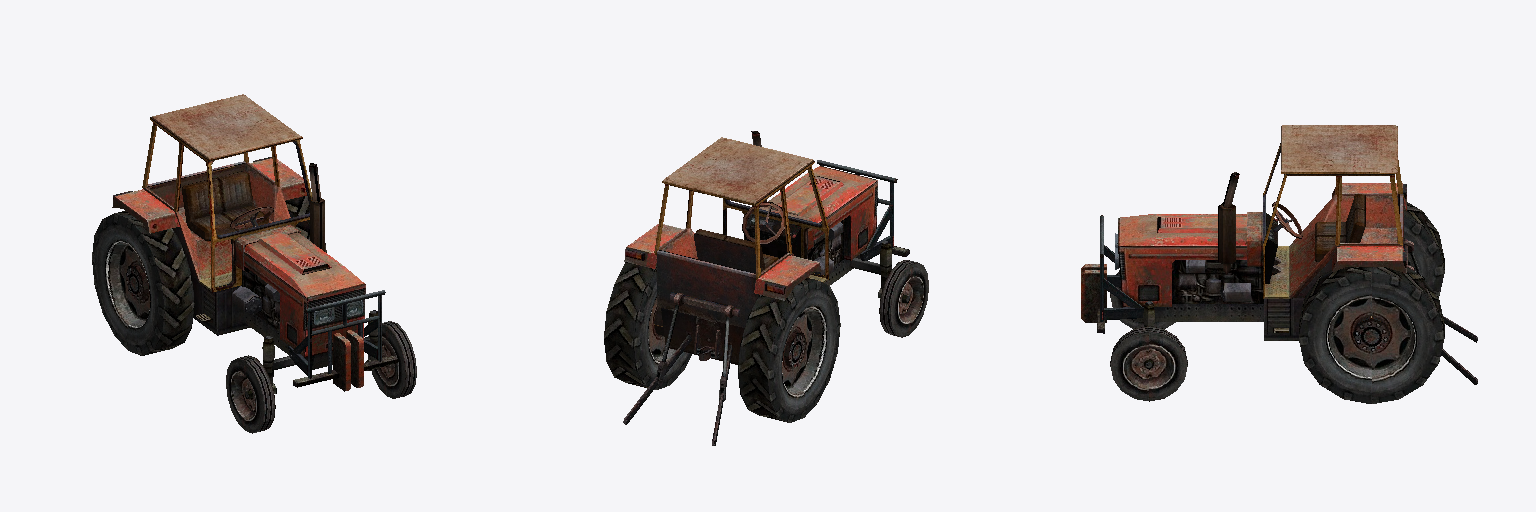
The picture shows the model from 3 angles: view 1: azimuth 30°, elevation 25°; view 2: azimuth 150°, elevation 25°; view 3: azimuth 270°, elevation 25°; orthographic projection.
Parts seen in each view (by area): view 1: tractor:Mesh; view 2: tractor:Mesh; view 3: tractor:Mesh.
Boxes of the visible parts, x1,y1,x2,y2 form: tractor:Mesh: [92, 94, 416, 433]; tractor:Mesh: [604, 131, 928, 445]; tractor:Mesh: [1081, 125, 1477, 403].
Bounding box in the file's own units: 2.08 × 2.56 × 4.24.
1 materials, 1 textured.